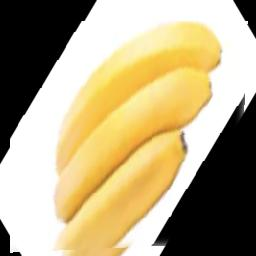Banana Fresh: (11, 21, 249, 253)
